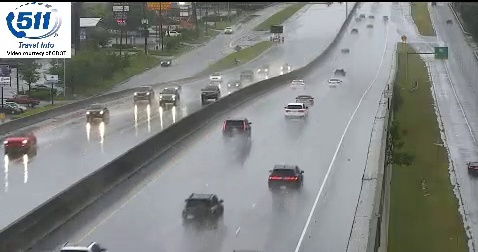car: (182, 194, 224, 223), (269, 165, 303, 188), (223, 119, 251, 138), (284, 103, 308, 119), (296, 95, 314, 107)
